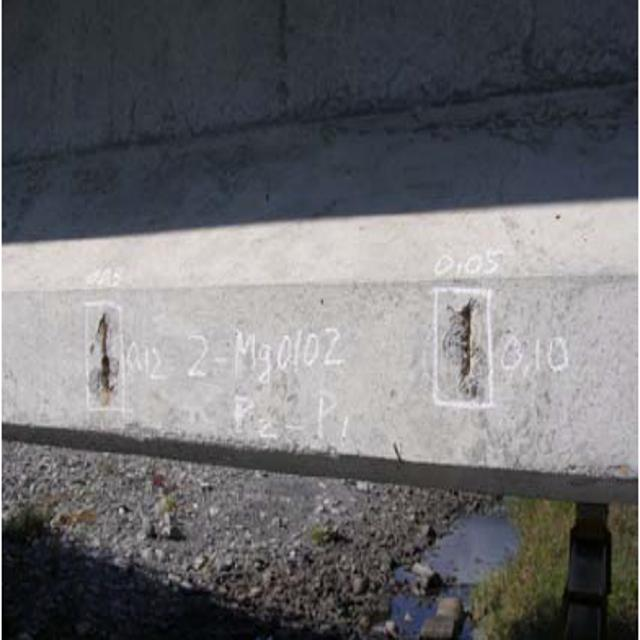spalling: (436, 270, 511, 411), (67, 294, 126, 413)
